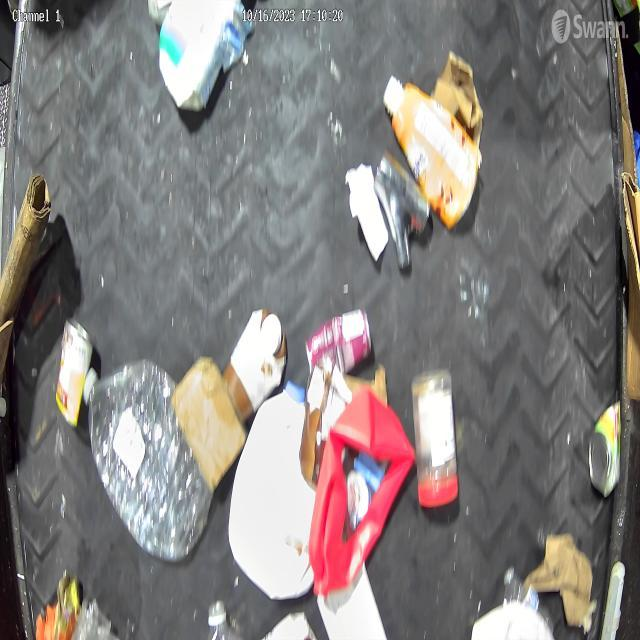can: (591, 394, 623, 502)
milk_jug: (230, 381, 315, 585)
non_white_jug: (312, 396, 412, 612), (386, 65, 484, 232)
plastic_bottle: (83, 357, 204, 552)
